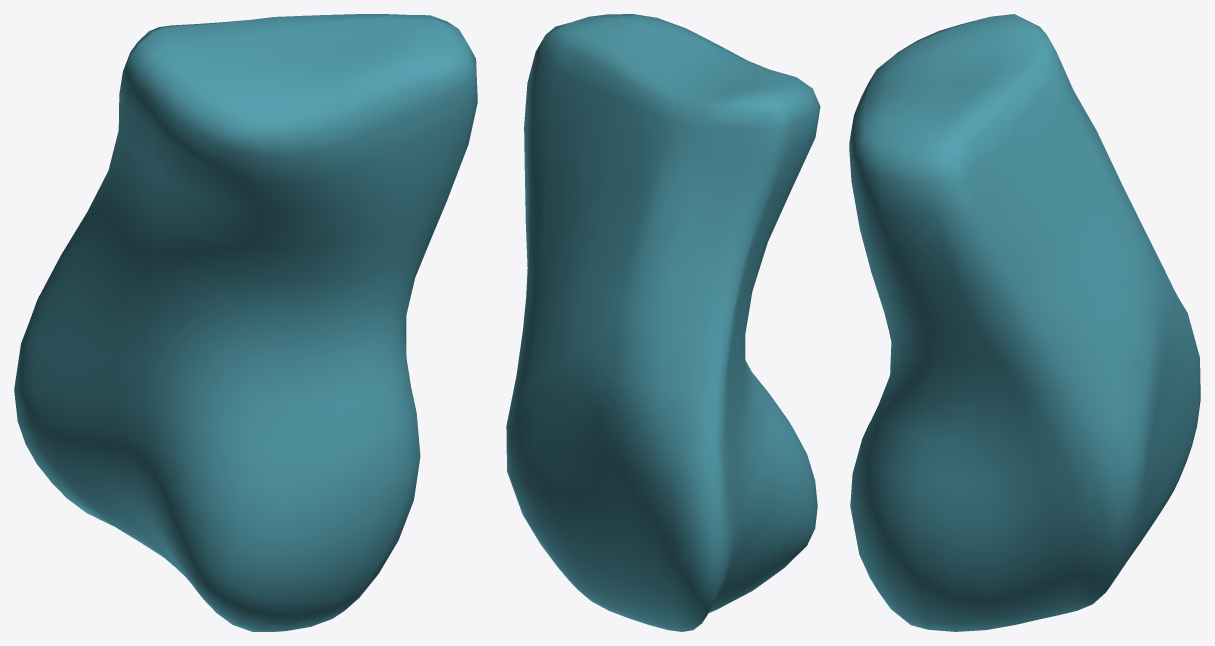
File: VIS_Alpha_Surface_002.dae
3 views of the same model, side by side, from view 1: azimuth 30°, elevation 25°; view 2: azimuth 150°, elevation 25°; view 3: azimuth 270°, elevation 25° (orthographic). The views are drawn at different scales.
Visible parts, largest first — view 1: VIS_Alpha_Surface_002; view 2: VIS_Alpha_Surface_002; view 3: VIS_Alpha_Surface_002.
Part boxes in pixels (x1,y1,x2,y2): VIS_Alpha_Surface_002: (14, 14, 477, 631); VIS_Alpha_Surface_002: (506, 14, 820, 631); VIS_Alpha_Surface_002: (849, 14, 1200, 631).
Size of the model in its own units: 12.09 by 11.85 by 20.68.
